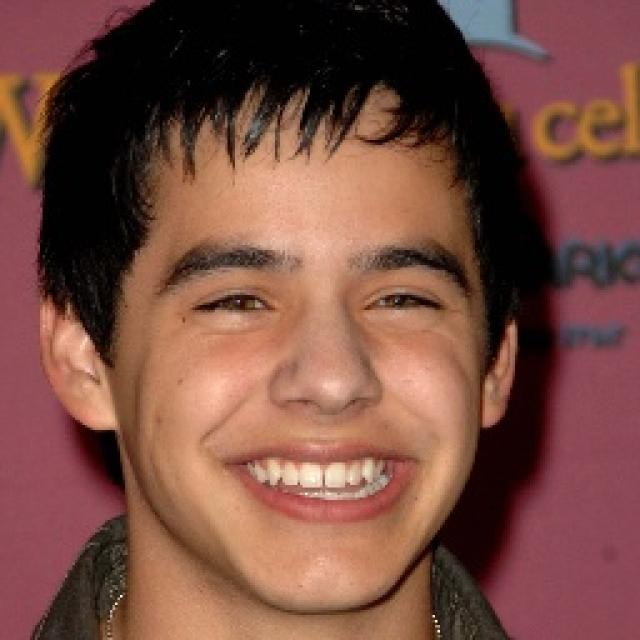earlobe: (38, 294, 120, 432)
